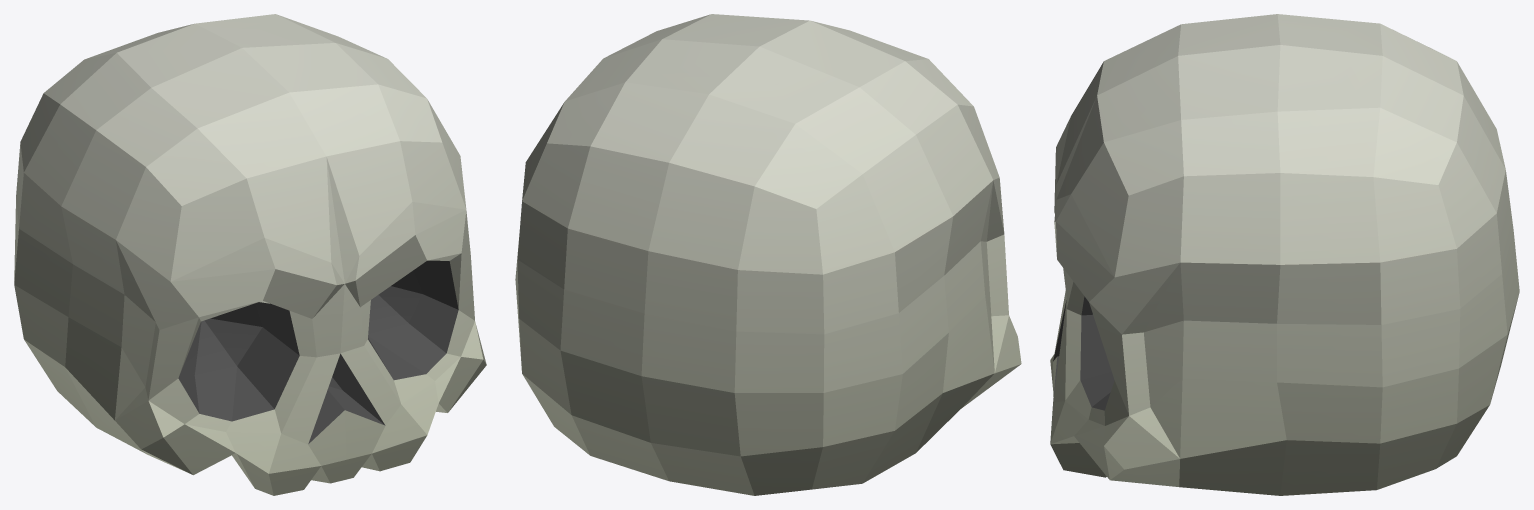
File: PROP_009_Skull.fbx
3 views of the same model, side by side, from view 1: azimuth 30°, elevation 25°; view 2: azimuth 150°, elevation 25°; view 3: azimuth 270°, elevation 25° (orthographic). The views are drawn at different scales.
Visible parts, largest first — view 1: PROP_009_Skull; view 2: PROP_009_Skull; view 3: PROP_009_Skull.
Boxes of the visible parts, x1,y1,x2,y2 form: PROP_009_Skull: [14, 14, 486, 495]; PROP_009_Skull: [515, 14, 1021, 495]; PROP_009_Skull: [1050, 14, 1519, 495].
Size of the model in its own units: 10.64 by 10.43 by 11.02.
